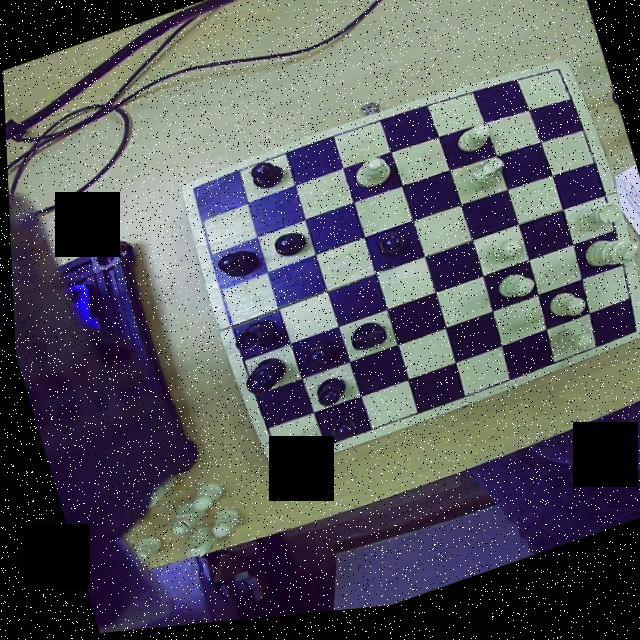chess-table-corners: (180, 182, 210, 210), (260, 449, 287, 477), (544, 72, 571, 97), (613, 332, 640, 356)
